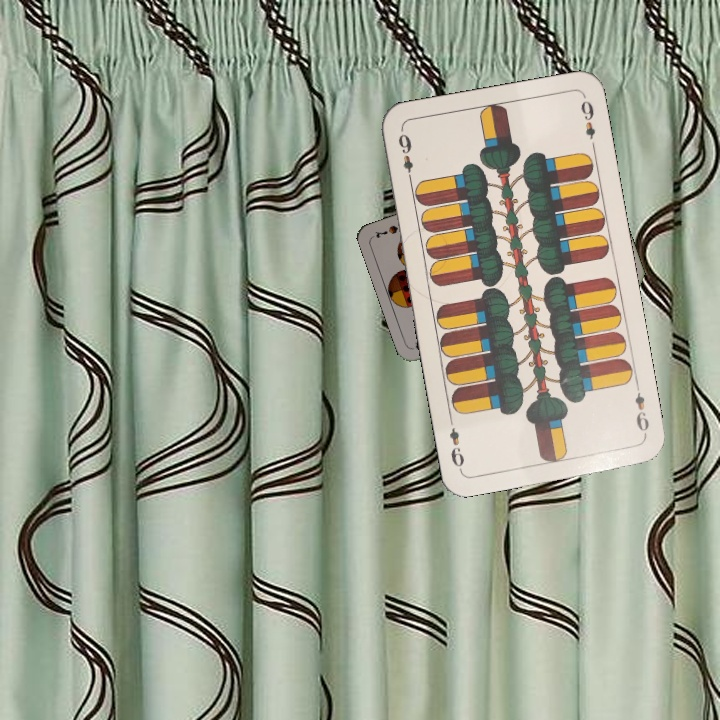E9: (630, 380, 652, 439), (394, 130, 416, 186)
